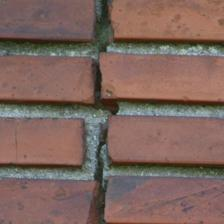Crack: (40, 22, 90, 199)
